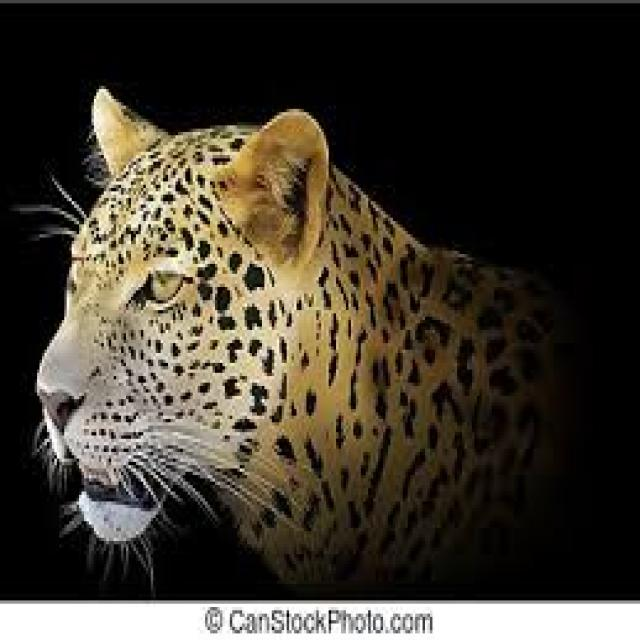Jaguar: (29, 82, 538, 578)
